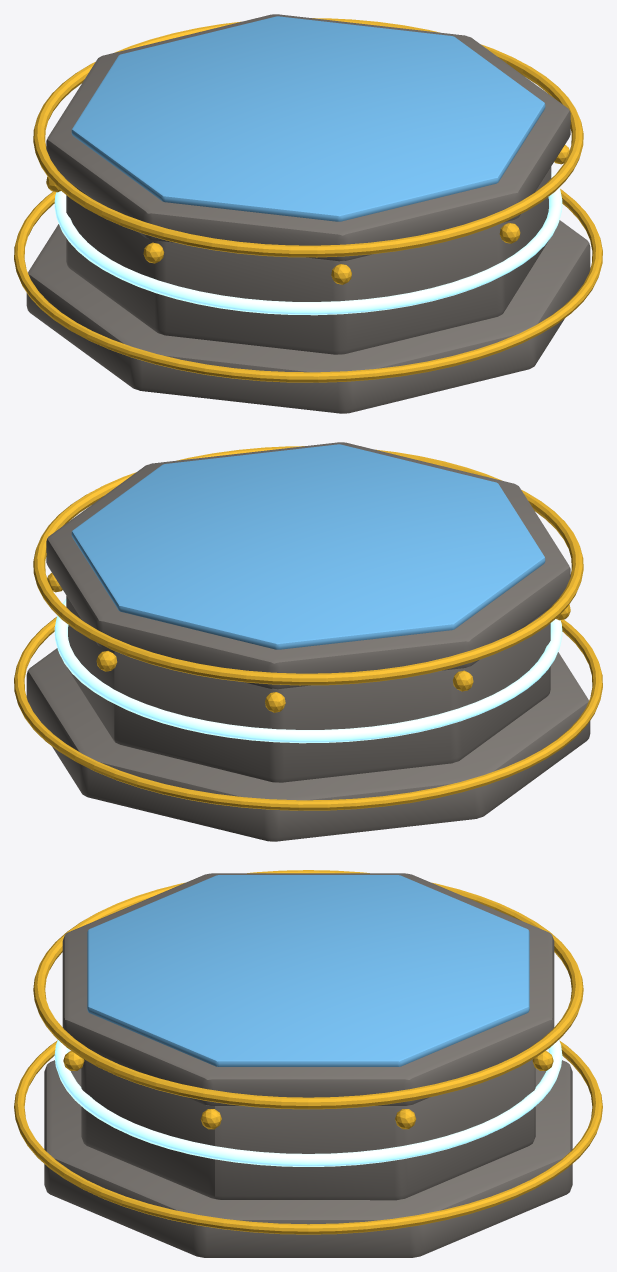
File: Podium.fbx
The picture shows the model from 3 angles, top to bottom: view 1: azimuth 30°, elevation 25°; view 2: azimuth 150°, elevation 25°; view 3: azimuth 270°, elevation 25°; orthographic projection.
Visible parts, largest first — view 1: Podium_Stone, Podium_Body, Podium_Gold, Podium_Glow; view 2: Podium_Stone, Podium_Body, Podium_Gold, Podium_Glow; view 3: Podium_Stone, Podium_Body, Podium_Gold, Podium_Glow.
Boxes of the visible parts, bbox=[...] form: Podium_Stone: bbox=[26, 14, 590, 413]; Podium_Body: bbox=[71, 16, 545, 221]; Podium_Gold: bbox=[14, 18, 602, 382]; Podium_Glow: bbox=[54, 172, 562, 315]; Podium_Stone: bbox=[26, 442, 590, 841]; Podium_Body: bbox=[71, 444, 545, 649]; Podium_Gold: bbox=[14, 446, 602, 810]; Podium_Glow: bbox=[54, 599, 562, 743]; Podium_Stone: bbox=[44, 873, 572, 1257]; Podium_Body: bbox=[87, 875, 529, 1066]; Podium_Gold: bbox=[14, 870, 602, 1234]; Podium_Glow: bbox=[54, 1040, 562, 1166].
Size of the model in its own units: 886 by 302 by 886.
